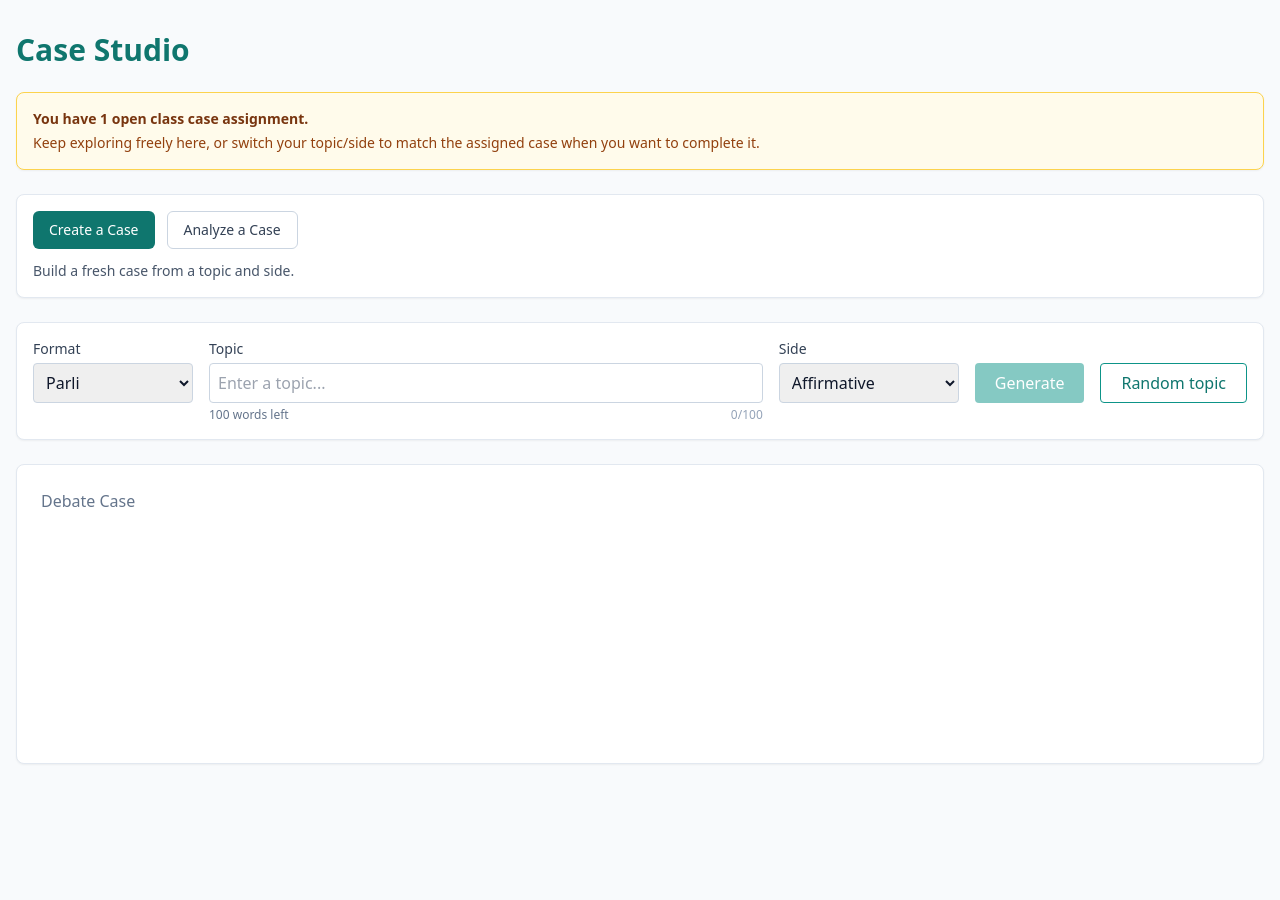
CaseBuilder › shows a class assignment match banner without locking the page
Type "UN funding for seafloor walls" into the field labelled "Topic".
click(486, 383); type("UN funding for seafloor walls")  # box x1=209 y1=363 x2=763 y2=403
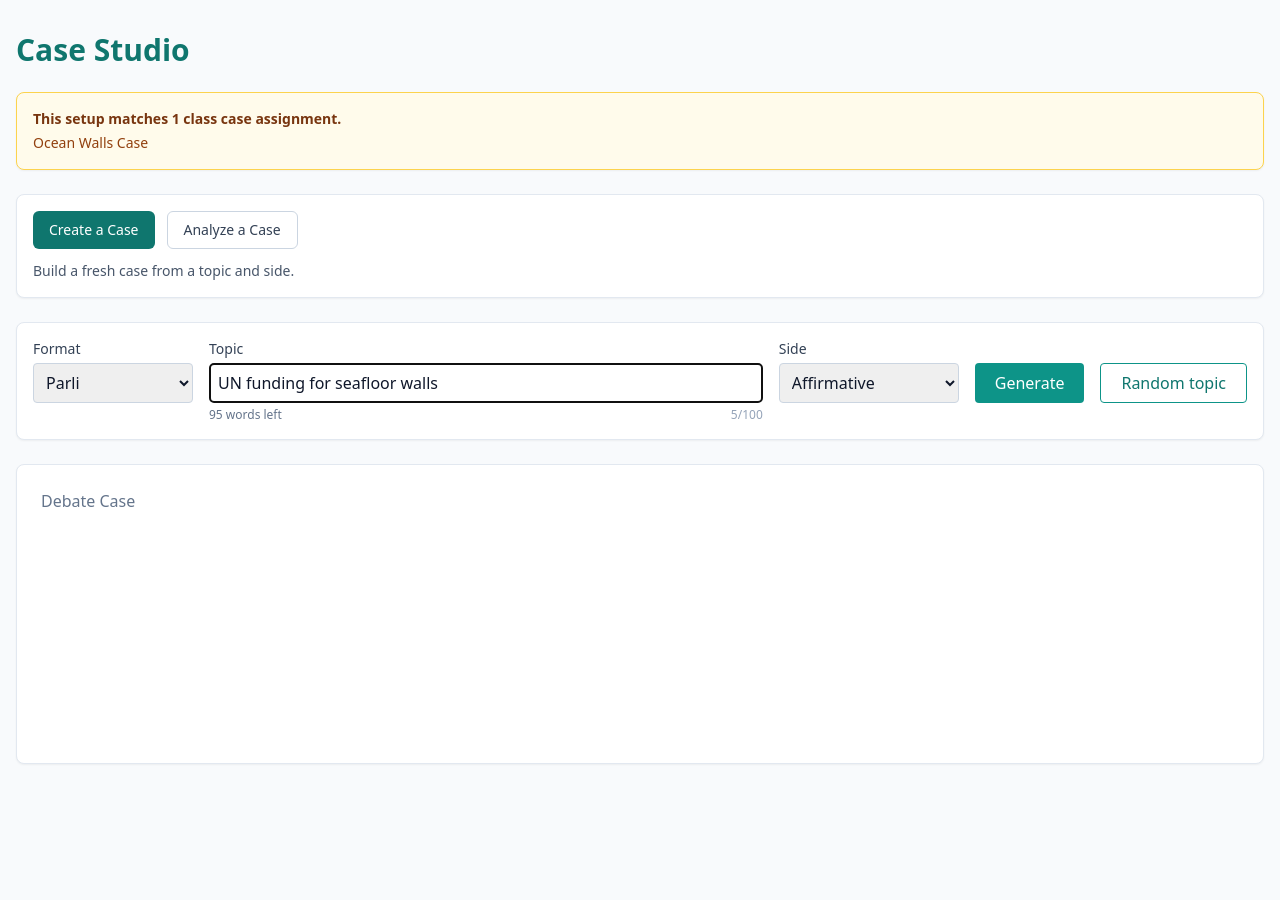
Expected: the text "This setup matches 1 class case assignment." is shown, x1=33 y1=109 x2=341 y2=128
Expected: the button "Generate" is enabled, x1=975 y1=363 x2=1084 y2=403
